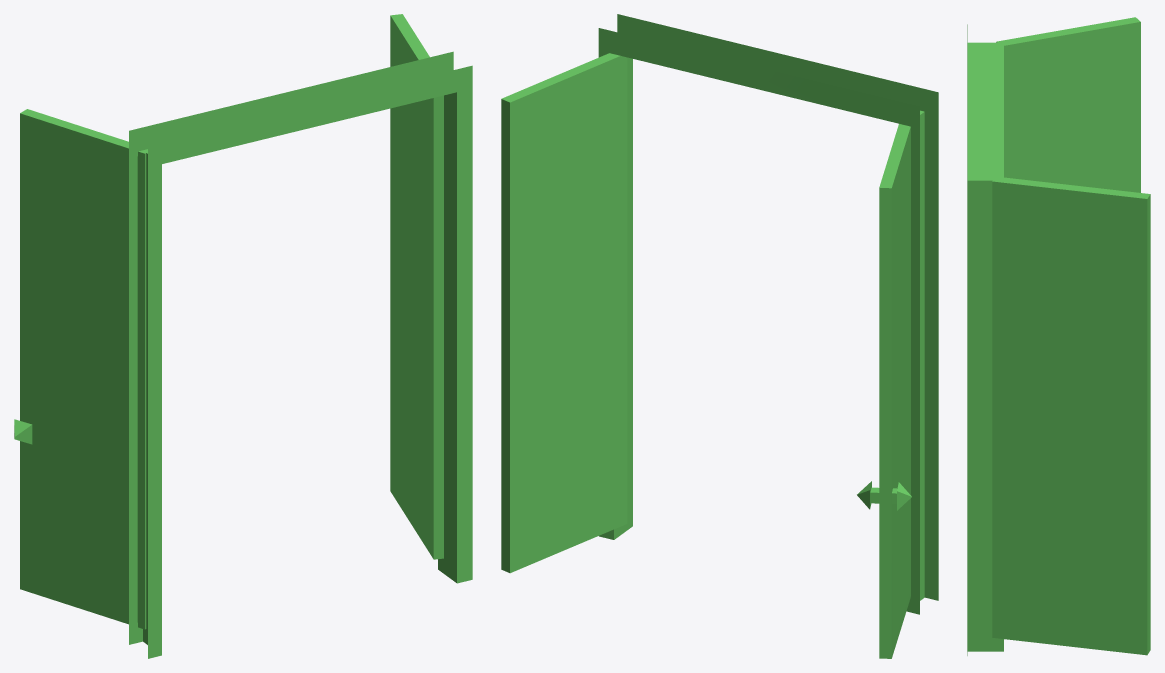
The model's file is Gen_Door_B_Open.fbx.
The picture shows the model from 3 angles, left to right: view 1: azimuth 30°, elevation 25°; view 2: azimuth 150°, elevation 25°; view 3: azimuth 270°, elevation 25°; orthographic projection. The views are drawn at different scales.
Visible parts, largest first — view 1: Gen_Door_B_Open; view 2: Gen_Door_B_Open; view 3: Gen_Door_B_Open.
Part boxes in pixels (x1,y1,x2,y2): Gen_Door_B_Open: (14, 14, 472, 658); Gen_Door_B_Open: (501, 14, 938, 658); Gen_Door_B_Open: (967, 17, 1150, 655).
Bounding box in the file's own units: 274 × 335 × 113.
